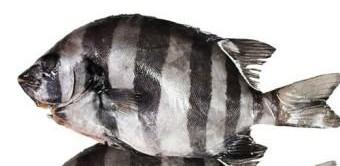fish: (18, 14, 339, 165)
